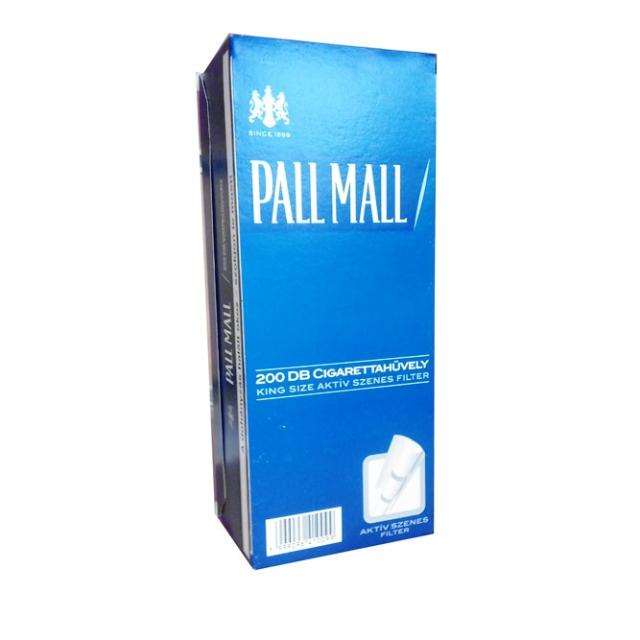pallmall: (188, 26, 442, 554)
